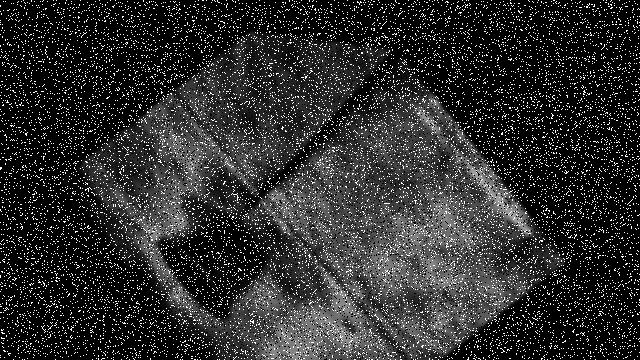pot: (158, 211, 263, 315)
